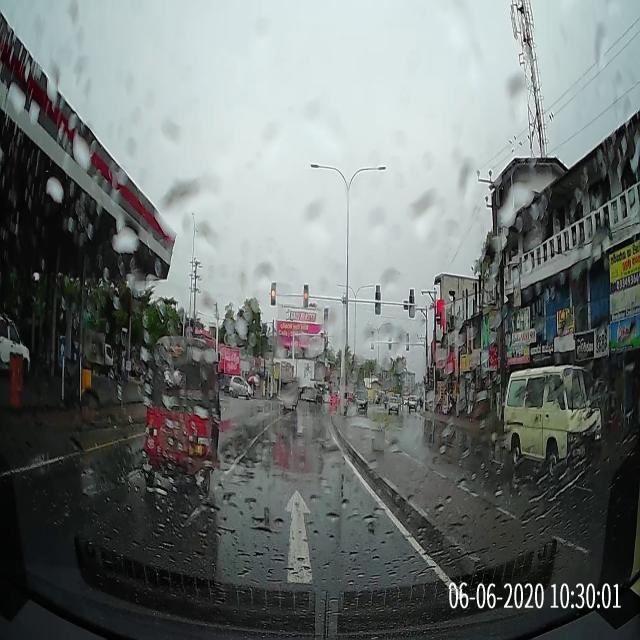forward: (125, 472, 468, 589)
